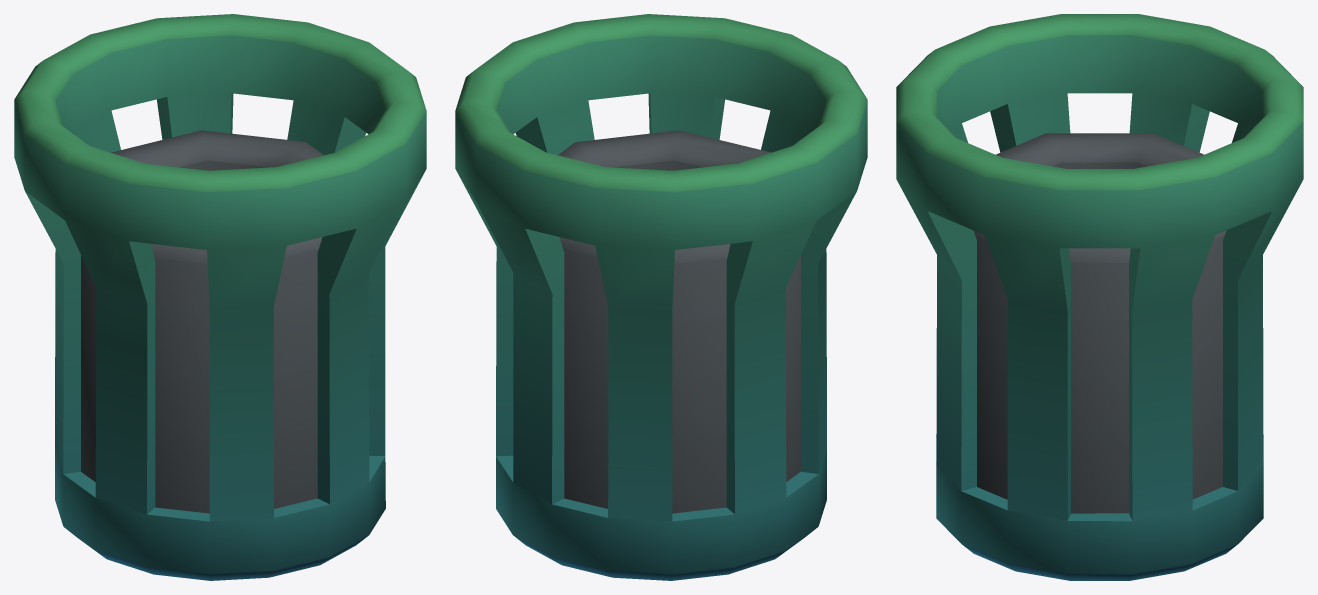
Rendered from trashcan-CzrKYqyO.glb.
3 renders of one model, left to right at view 1: azimuth 30°, elevation 25°; view 2: azimuth 150°, elevation 25°; view 3: azimuth 270°, elevation 25°, orthographic.
Visible parts, largest first — view 1: trashcan; view 2: trashcan; view 3: trashcan.
Boxes of the visible parts, x1=… form: trashcan: x1=14, y1=14, x2=426, y2=580; trashcan: x1=455, y1=14, x2=867, y2=580; trashcan: x1=896, y1=14, x2=1303, y2=580.
Bounding box in the file's own units: 1 × 1.14 × 1.
Materials: 1 (1 with a texture image).
